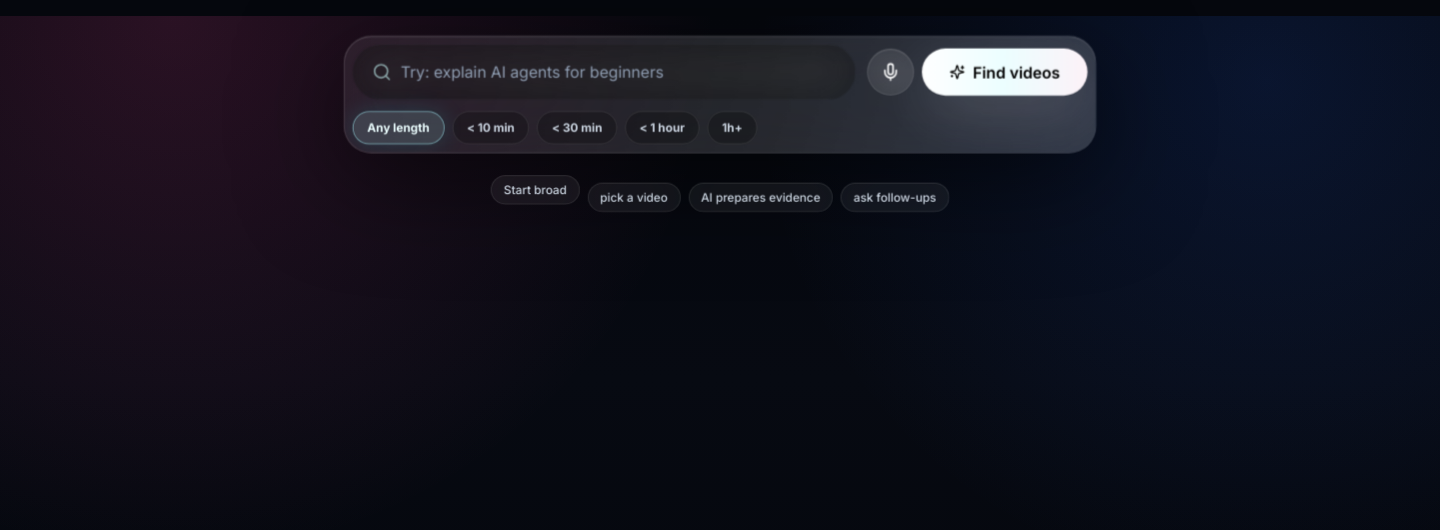
SearchConsole – voice input › Web Speech API › puts final transcript into the search input
Click the button named "start voice search" at (890, 72), box [867,48,914,95]
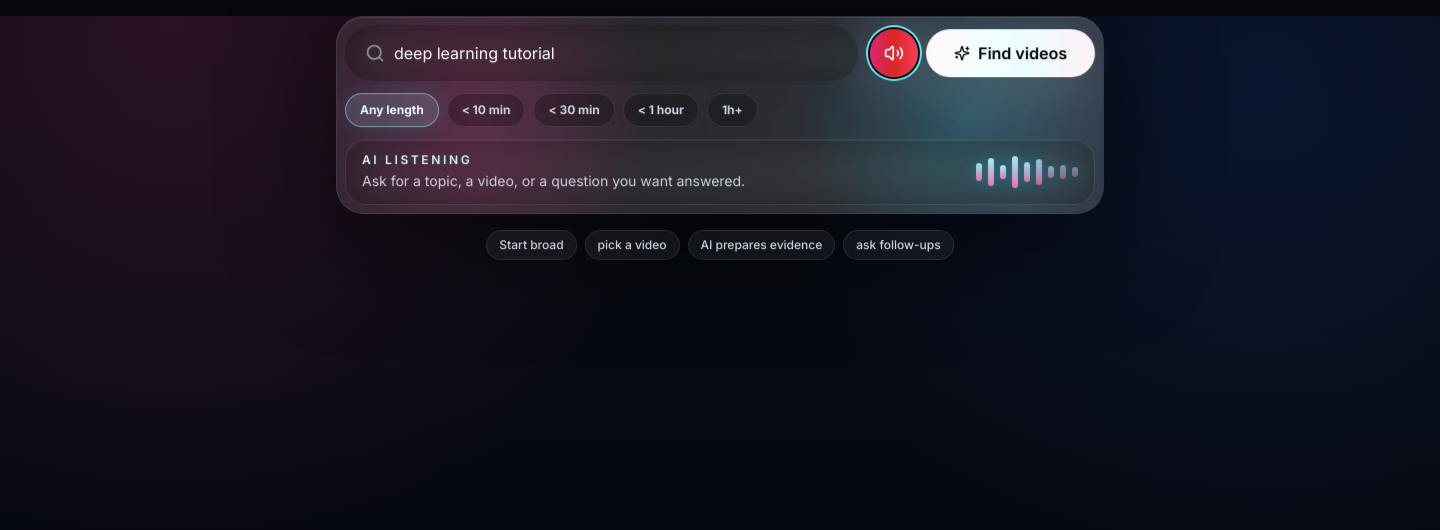
Check: the field named "search youtube videos" holds "deep learning tutorial", box [345,25,858,81]
